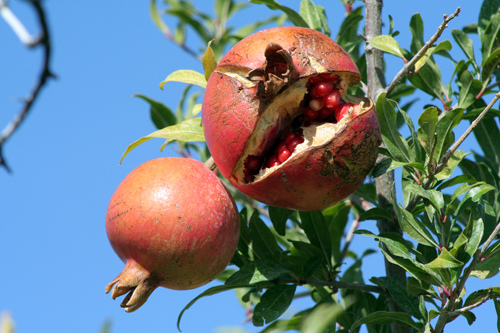pomogranate: (201, 26, 379, 209), (101, 155, 245, 313), (312, 81, 333, 96)
